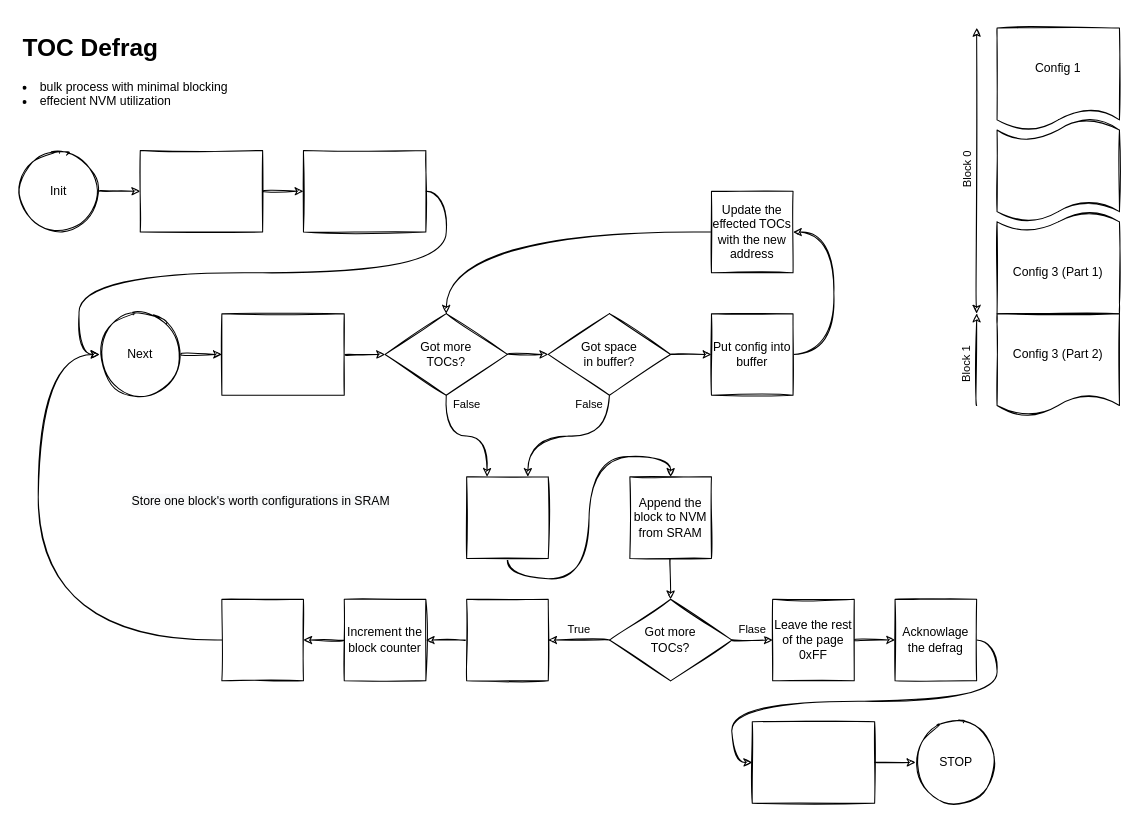
The diagram is 1137 pixels wide and 821 high, and some of its shapes have lost their labels. Here are the shapes that lost their labels. From the top down, the centre of each, then its label:
the point at 201,190: set the bulk_defrag_state flag
the point at 364,190: set next pointer to TOC head
the point at 1057,170: Config 2
the point at 282,354: Create a buffer on stack that can store one block's worth of configs Init 0xFF
the point at 507,517: Erase the next block
the point at 262,639: Store the next TOC pointer
the point at 507,639: Clear the rest of the page to 0x00s
the point at 813,762: clear the bulk_defrag_state flag
